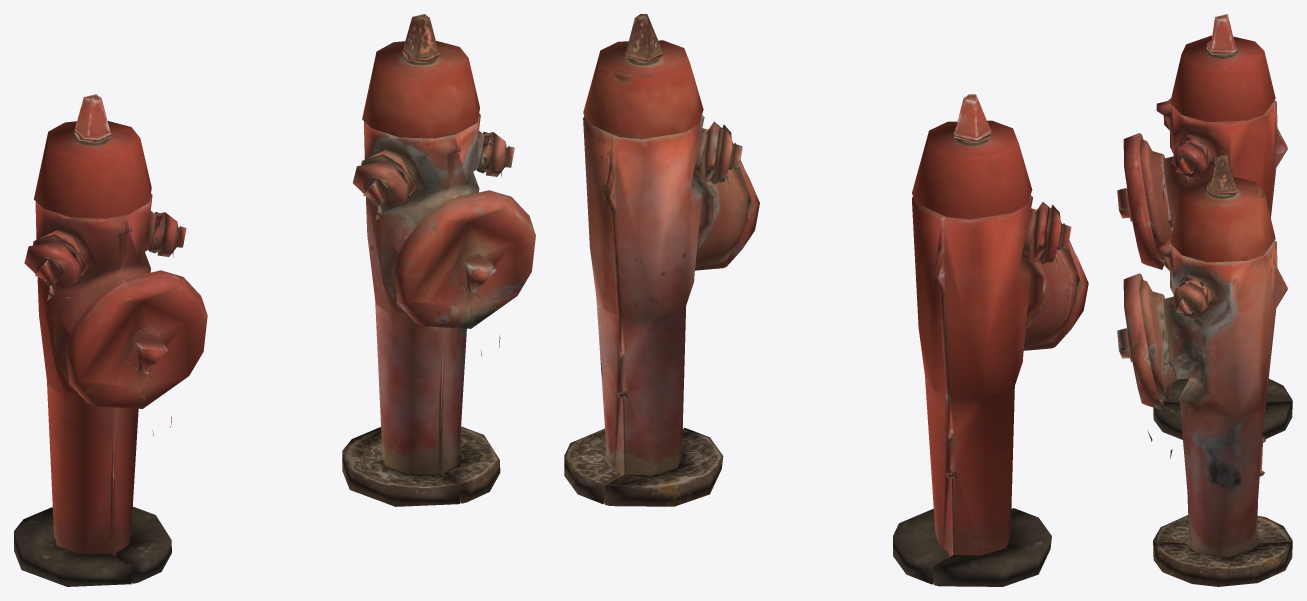
The model's file is hydrant.glb.
3 renders of one model, left to right at view 1: azimuth 30°, elevation 25°; view 2: azimuth 150°, elevation 25°; view 3: azimuth 270°, elevation 25°, orthographic. The views are drawn at different scales.
Visible parts, largest first — view 1: fire_hydrant_aged, fire_hydrant; view 2: fire_hydrant_aged, fire_hydrant; view 3: fire_hydrant_aged, fire_hydrant.
Part boxes in pixels (left/top/right/bottom): fire_hydrant_aged: left=342, top=14, right=535, bottom=506; fire_hydrant: left=14, top=94, right=207, bottom=586; fire_hydrant_aged: left=564, top=14, right=759, bottom=506; fire_hydrant: left=893, top=94, right=1088, bottom=586; fire_hydrant_aged: left=1117, top=154, right=1292, bottom=586; fire_hydrant: left=1117, top=14, right=1292, bottom=439.
Size of the model in its own units: 0.8728 by 0.7992 by 0.3173.
Materials: 2 (2 with a texture image).
